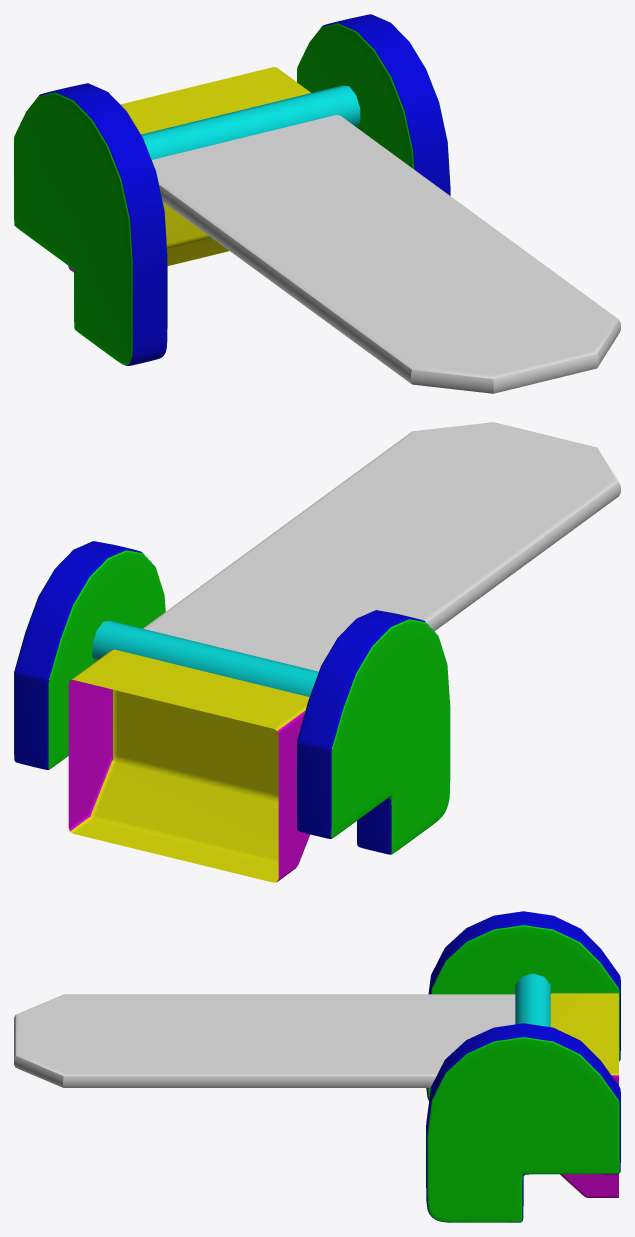
File: Extended_Bench.fbx
The picture shows the model from 3 angles, top to bottom: view 1: azimuth 30°, elevation 25°; view 2: azimuth 150°, elevation 25°; view 3: azimuth 270°, elevation 25°; orthographic projection. The views are drawn at different scales.
Visible parts, largest first — view 1: Bench, Bench_Pivot; view 2: Bench_Pivot, Bench; view 3: Bench_Pivot, Bench.
Part boxes in pixels (<box>): Bench: <box>152,115,620,393</box>; Bench_Pivot: <box>14,14,450,365</box>; Bench_Pivot: <box>14,541,450,882</box>; Bench: <box>143,422,620,671</box>; Bench_Pivot: <box>426,911,620,1222</box>; Bench: <box>14,994,515,1087</box>.
Size of the model in its own units: 304 by 210 by 616.
